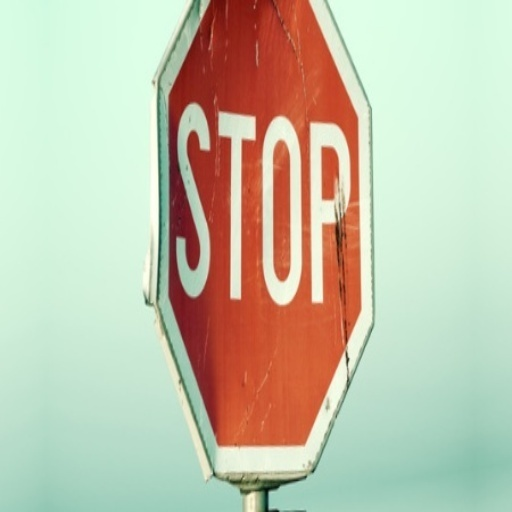Stop: (70, 0, 469, 488)
